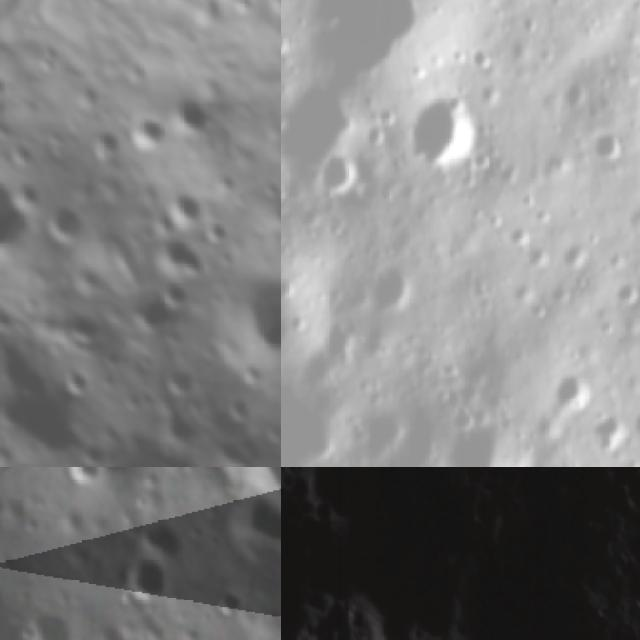crater: (204, 240, 281, 392), (126, 205, 218, 297), (109, 266, 200, 346), (0, 142, 50, 285), (281, 369, 349, 467), (157, 71, 226, 151), (203, 467, 281, 537), (102, 550, 178, 620), (435, 406, 518, 467), (410, 100, 480, 169), (4, 591, 92, 640), (38, 193, 100, 259), (117, 101, 175, 164), (366, 264, 425, 318), (159, 354, 212, 408), (311, 147, 368, 196), (83, 120, 132, 175), (220, 383, 268, 435), (548, 369, 602, 414), (200, 578, 250, 626), (55, 350, 100, 400), (608, 273, 640, 319), (60, 467, 114, 494), (586, 128, 622, 168), (524, 240, 552, 272), (504, 219, 532, 246), (0, 61, 16, 108)
